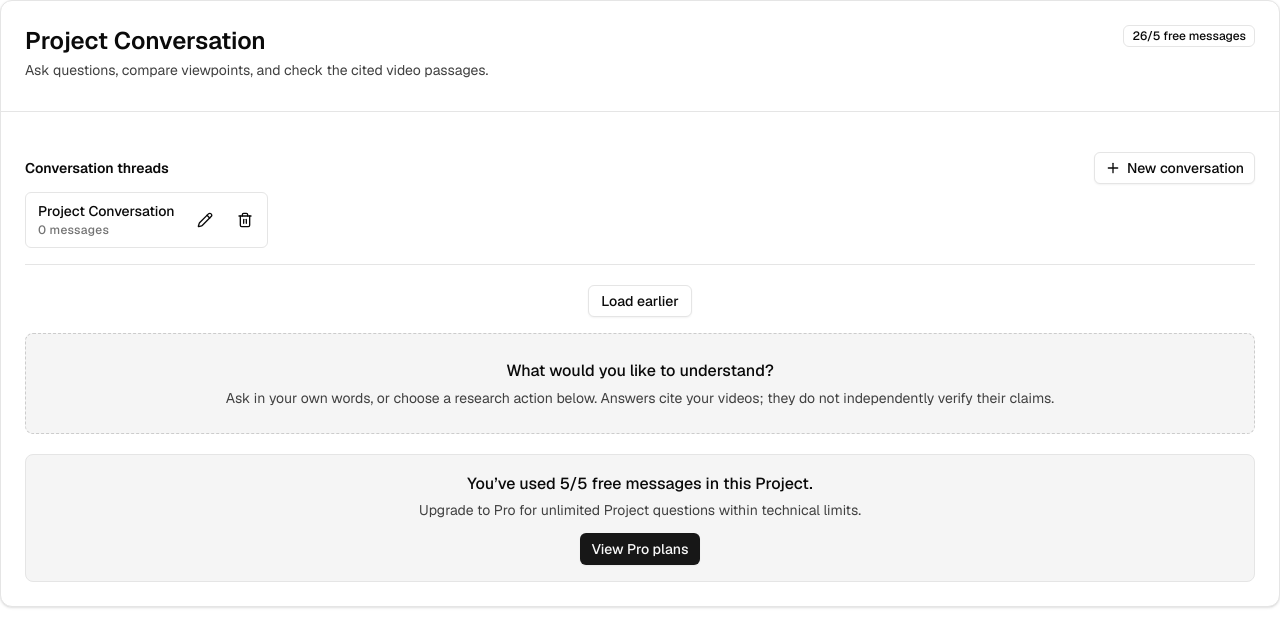
Test: ProjectConversation › loads earlier complete turns from the governed cursor
The width and height of the screenshot is (1280, 625).
Click the button "Load earlier". click: (640, 301)
box: [588,285,692,317]
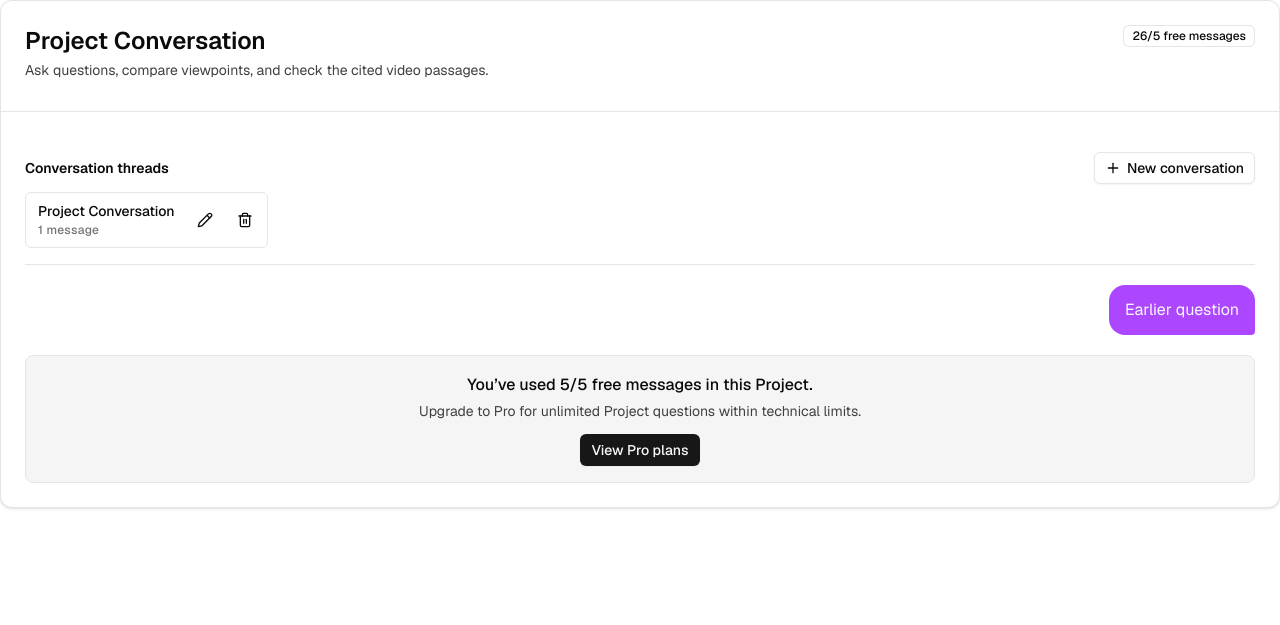
Check: the text "Earlier question" is shown, box [1109,285,1255,335]
